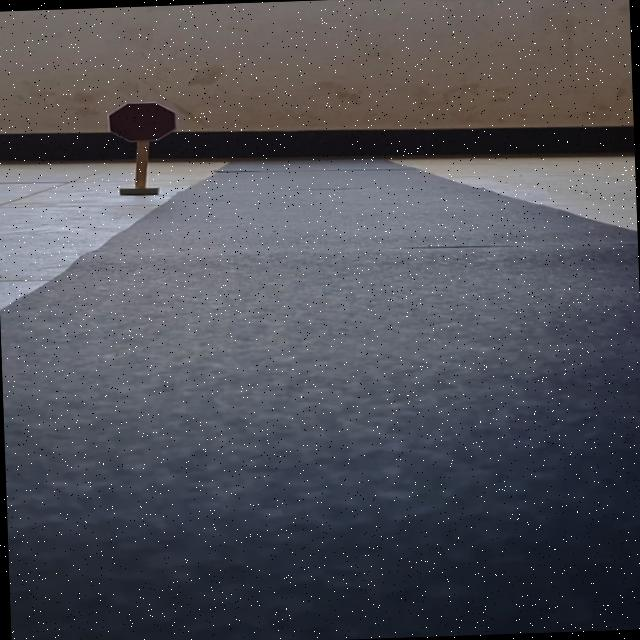Stop: (107, 101, 178, 142)
